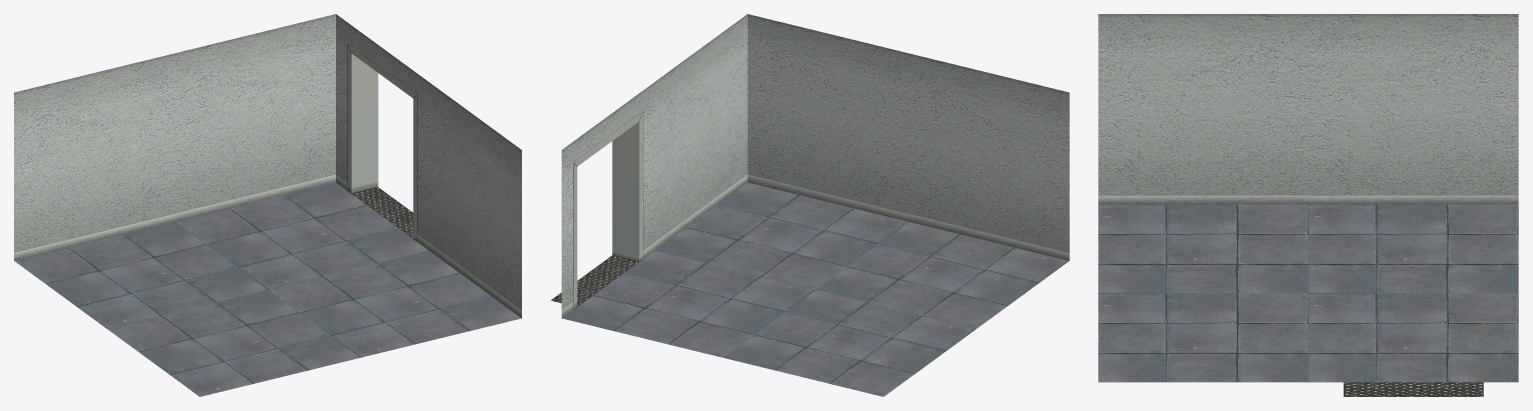
The model's file is ControlTowerInt02C.glb.
3 renders of one model, left to right at view 1: azimuth 30°, elevation 25°; view 2: azimuth 150°, elevation 25°; view 3: azimuth 270°, elevation 25°, orthographic. The views are drawn at different scales.
Parts seen in each view (by area): view 1: CONTROLTOWERINT02C; view 2: CONTROLTOWERINT02C; view 3: CONTROLTOWERINT02C.
Part boxes in pixels (x1,y1,x2,y2): CONTROLTOWERINT02C: (14,14,521,396); CONTROLTOWERINT02C: (551,14,1069,396); CONTROLTOWERINT02C: (1098,14,1518,396).
Bounding box in the file's own units: 6.5 × 3 × 6.
5 materials, 5 textured.
